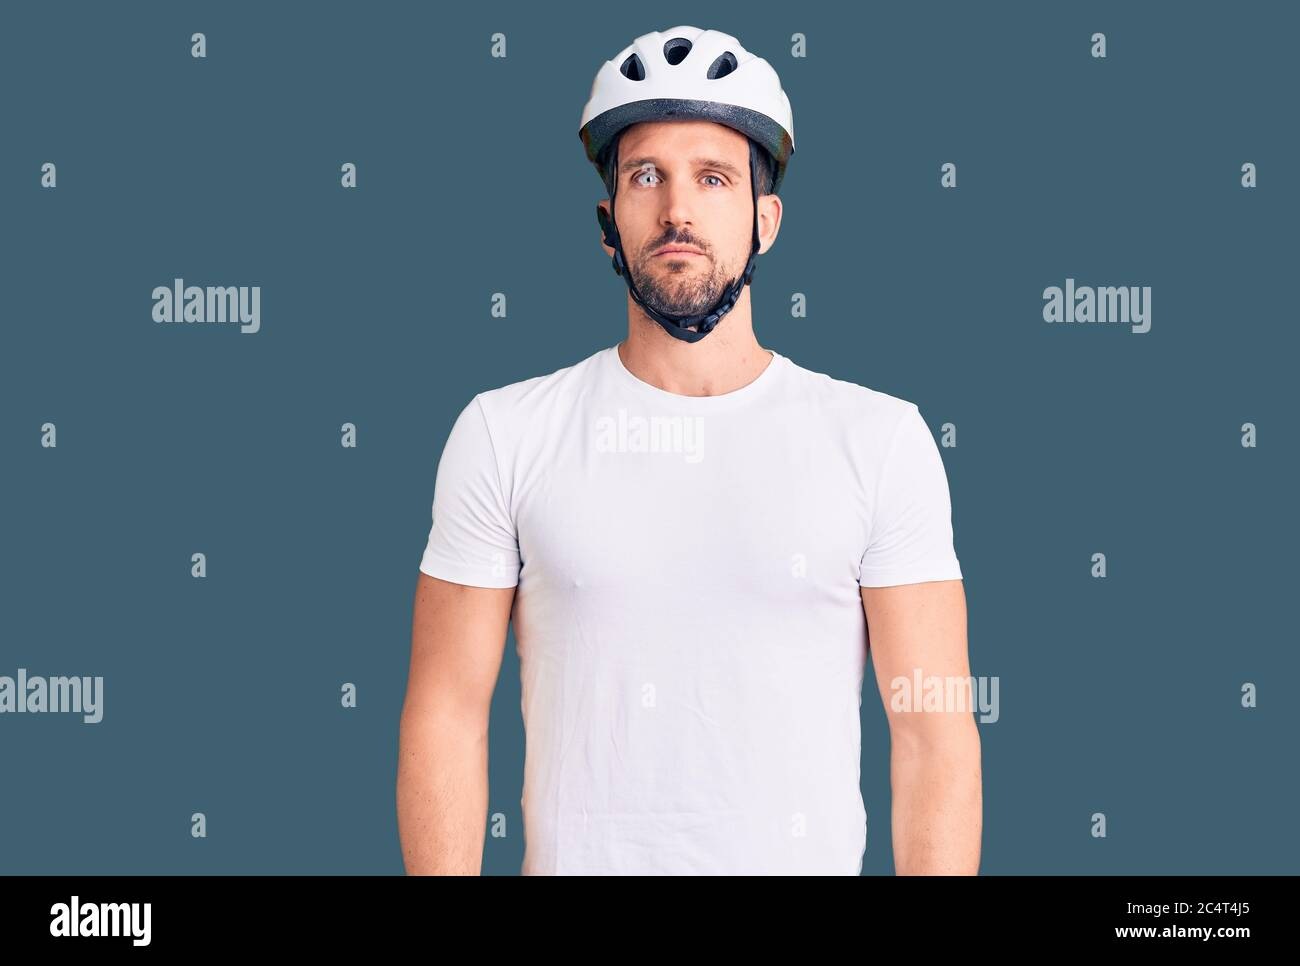helmet: (579, 23, 794, 318)
